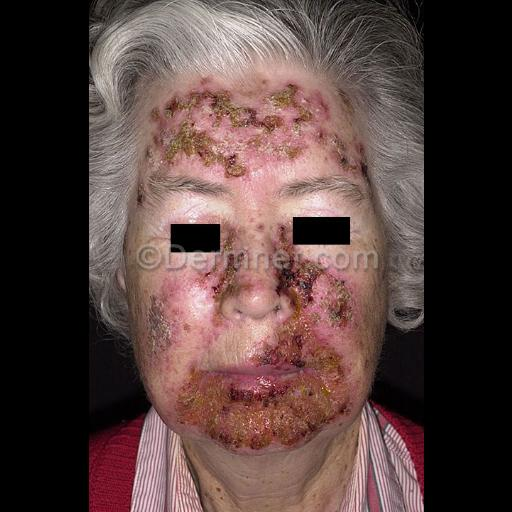Skin_Lesion: (165, 88, 263, 128), (142, 281, 182, 373), (168, 130, 246, 176), (268, 208, 296, 330), (246, 398, 318, 442), (268, 336, 336, 382), (180, 382, 238, 432), (330, 271, 356, 341), (274, 89, 314, 133), (326, 137, 356, 173), (216, 259, 242, 299), (304, 261, 320, 293)
